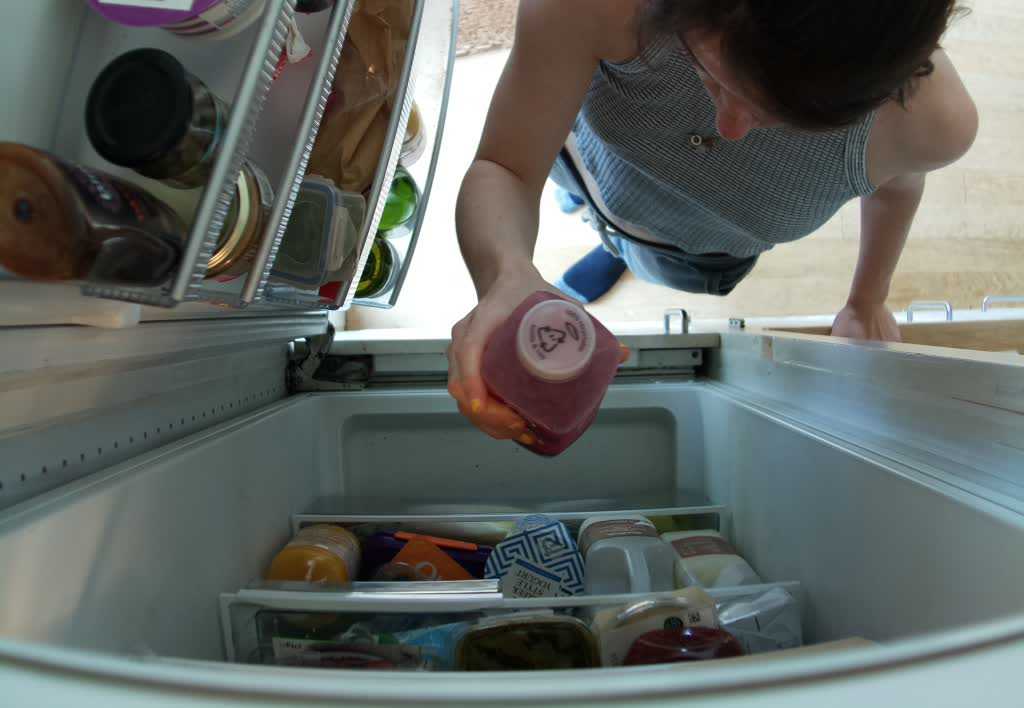juice: (477, 271, 622, 461)
